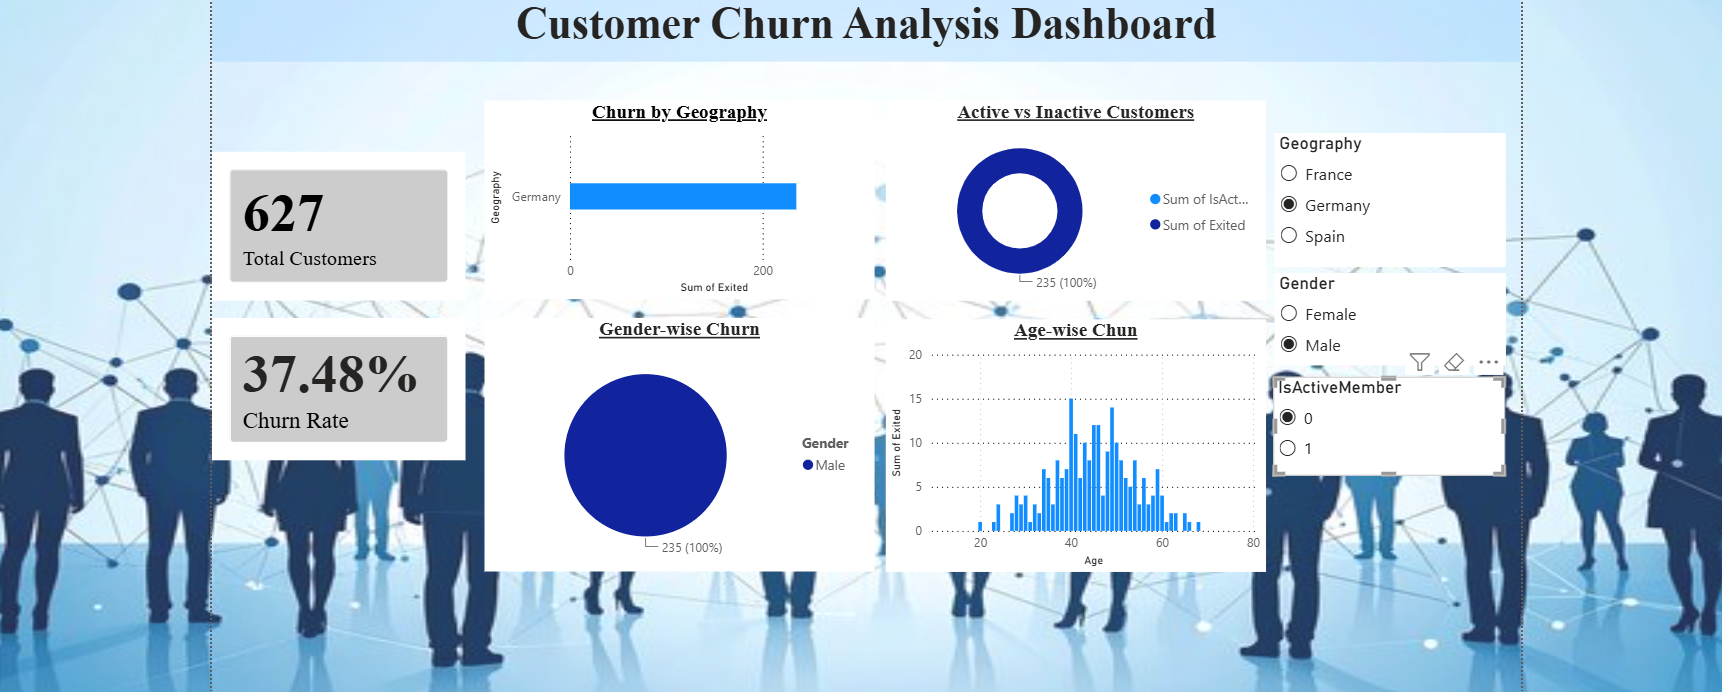

The dashboard page shown, as its layout file describes it:
{"tool":"powerbi","page":{"name":"Page 1","canvas":[1280,720],"ordinal":0},"visuals":[{"type":"cardVisual","fields":{"Data":["CountNonNull(churn_analysis customers.CustomerId)"]},"box":[0,155.3,248.2,145.5],"z":0},{"type":"cardVisual","fields":{"Data":["churn_analysis customers.Churn Rate"]},"box":[0,317.9,248.2,139.4],"z":1000},{"type":"clusteredBarChart","title":"Churn by Geography","fields":{"Category":["churn_analysis customers.Geography"],"Y":["Sum(churn_analysis customers.Exited)"]},"box":[266.6,105.2,381.5,194.4],"z":2000},{"type":"pieChart","title":"Gender-wise Churn","fields":{"Category":["churn_analysis customers.Gender"],"Y":["Sum(churn_analysis customers.Exited)"]},"box":[266.6,317.9,381.5,248.2],"z":3000},{"type":"donutChart","title":"Active vs Inactive Customers","fields":{"Y":["Sum(churn_analysis customers.IsActiveMember)","Sum(churn_analysis customers.Exited)"]},"box":[659.1,105.2,371.7,195.7],"z":4000},{"type":"clusteredColumnChart","title":"Age-wise Chun","fields":{"Y":["Sum(churn_analysis customers.Exited)"],"Category":["churn_analysis customers.Age"]},"box":[659.1,319.2,371.7,247],"z":5000},{"type":"listSlicer","fields":{"Values":["churn_analysis customers.Geography"]},"box":[1039.4,137,226.2,130.8],"z":6000},{"type":"listSlicer","fields":{"Values":["churn_analysis customers.Gender"]},"box":[1039.4,273.9,226.2,90.5],"z":7000},{"type":"listSlicer","fields":{"Values":["churn_analysis customers.IsActiveMember"]},"box":[1038.2,375.4,226.2,96.6],"z":8000},{"type":"textbox","box":[0,0,1280.3,67.2],"z":9000}]}

Visuals, with their boxes on the page's 1280x720 design canvas (x1, y1, x2, y2). These are canvas units, not pixel positions in the 1722x692 screenshot, which may show the page scaled, cropped or inside an application window:
cardVisual - CountNonNull(churn_analysis customers.CustomerId): bbox=(0, 155, 248, 301)
cardVisual - churn_analysis customers.Churn Rate: bbox=(0, 318, 248, 457)
"Churn by Geography" clusteredBarChart: bbox=(267, 105, 648, 300)
"Gender-wise Churn" pieChart: bbox=(267, 318, 648, 566)
"Active vs Inactive Customers" donutChart: bbox=(659, 105, 1031, 301)
"Age-wise Chun" clusteredColumnChart: bbox=(659, 319, 1031, 566)
listSlicer - churn_analysis customers.Geography: bbox=(1039, 137, 1266, 268)
listSlicer - churn_analysis customers.Gender: bbox=(1039, 274, 1266, 364)
listSlicer - churn_analysis customers.IsActiveMember: bbox=(1038, 375, 1264, 472)
textbox: bbox=(0, 0, 1280, 67)
